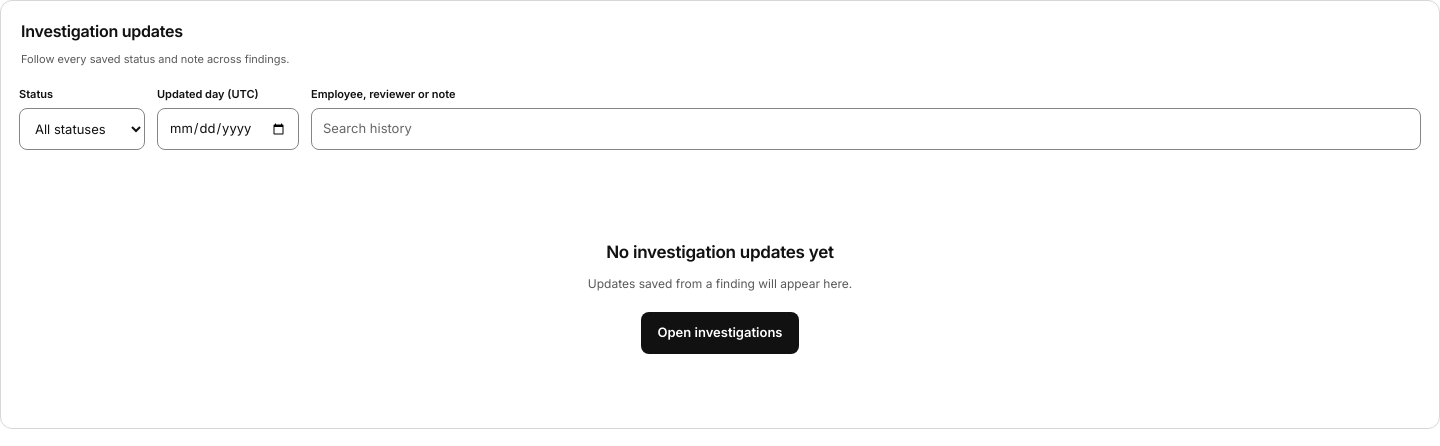
Test case: investigation updates page empty states › distinguishes filtered empty results from an empty review history
Expected: the heading "No investigation updates yet" is shown, [588,240,852,266]
In the search field labelled "Employee, reviewer or note": x=866, y=129 [311,108,1421,150], type "someone"
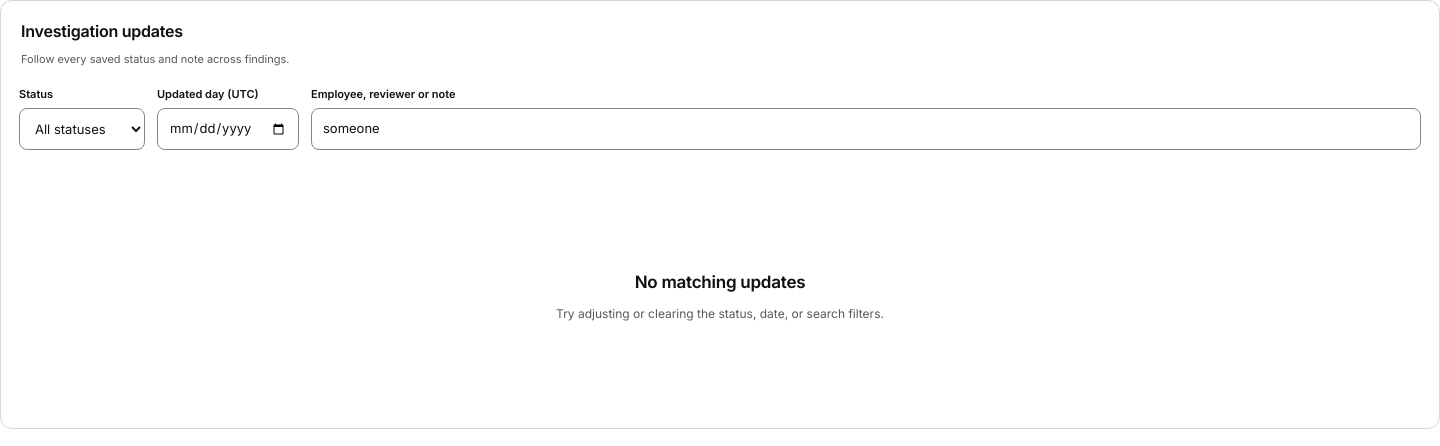
Result: the heading "No matching updates" is shown at [635,272,805,292]
Result: the heading "No investigation updates yet" is gone
